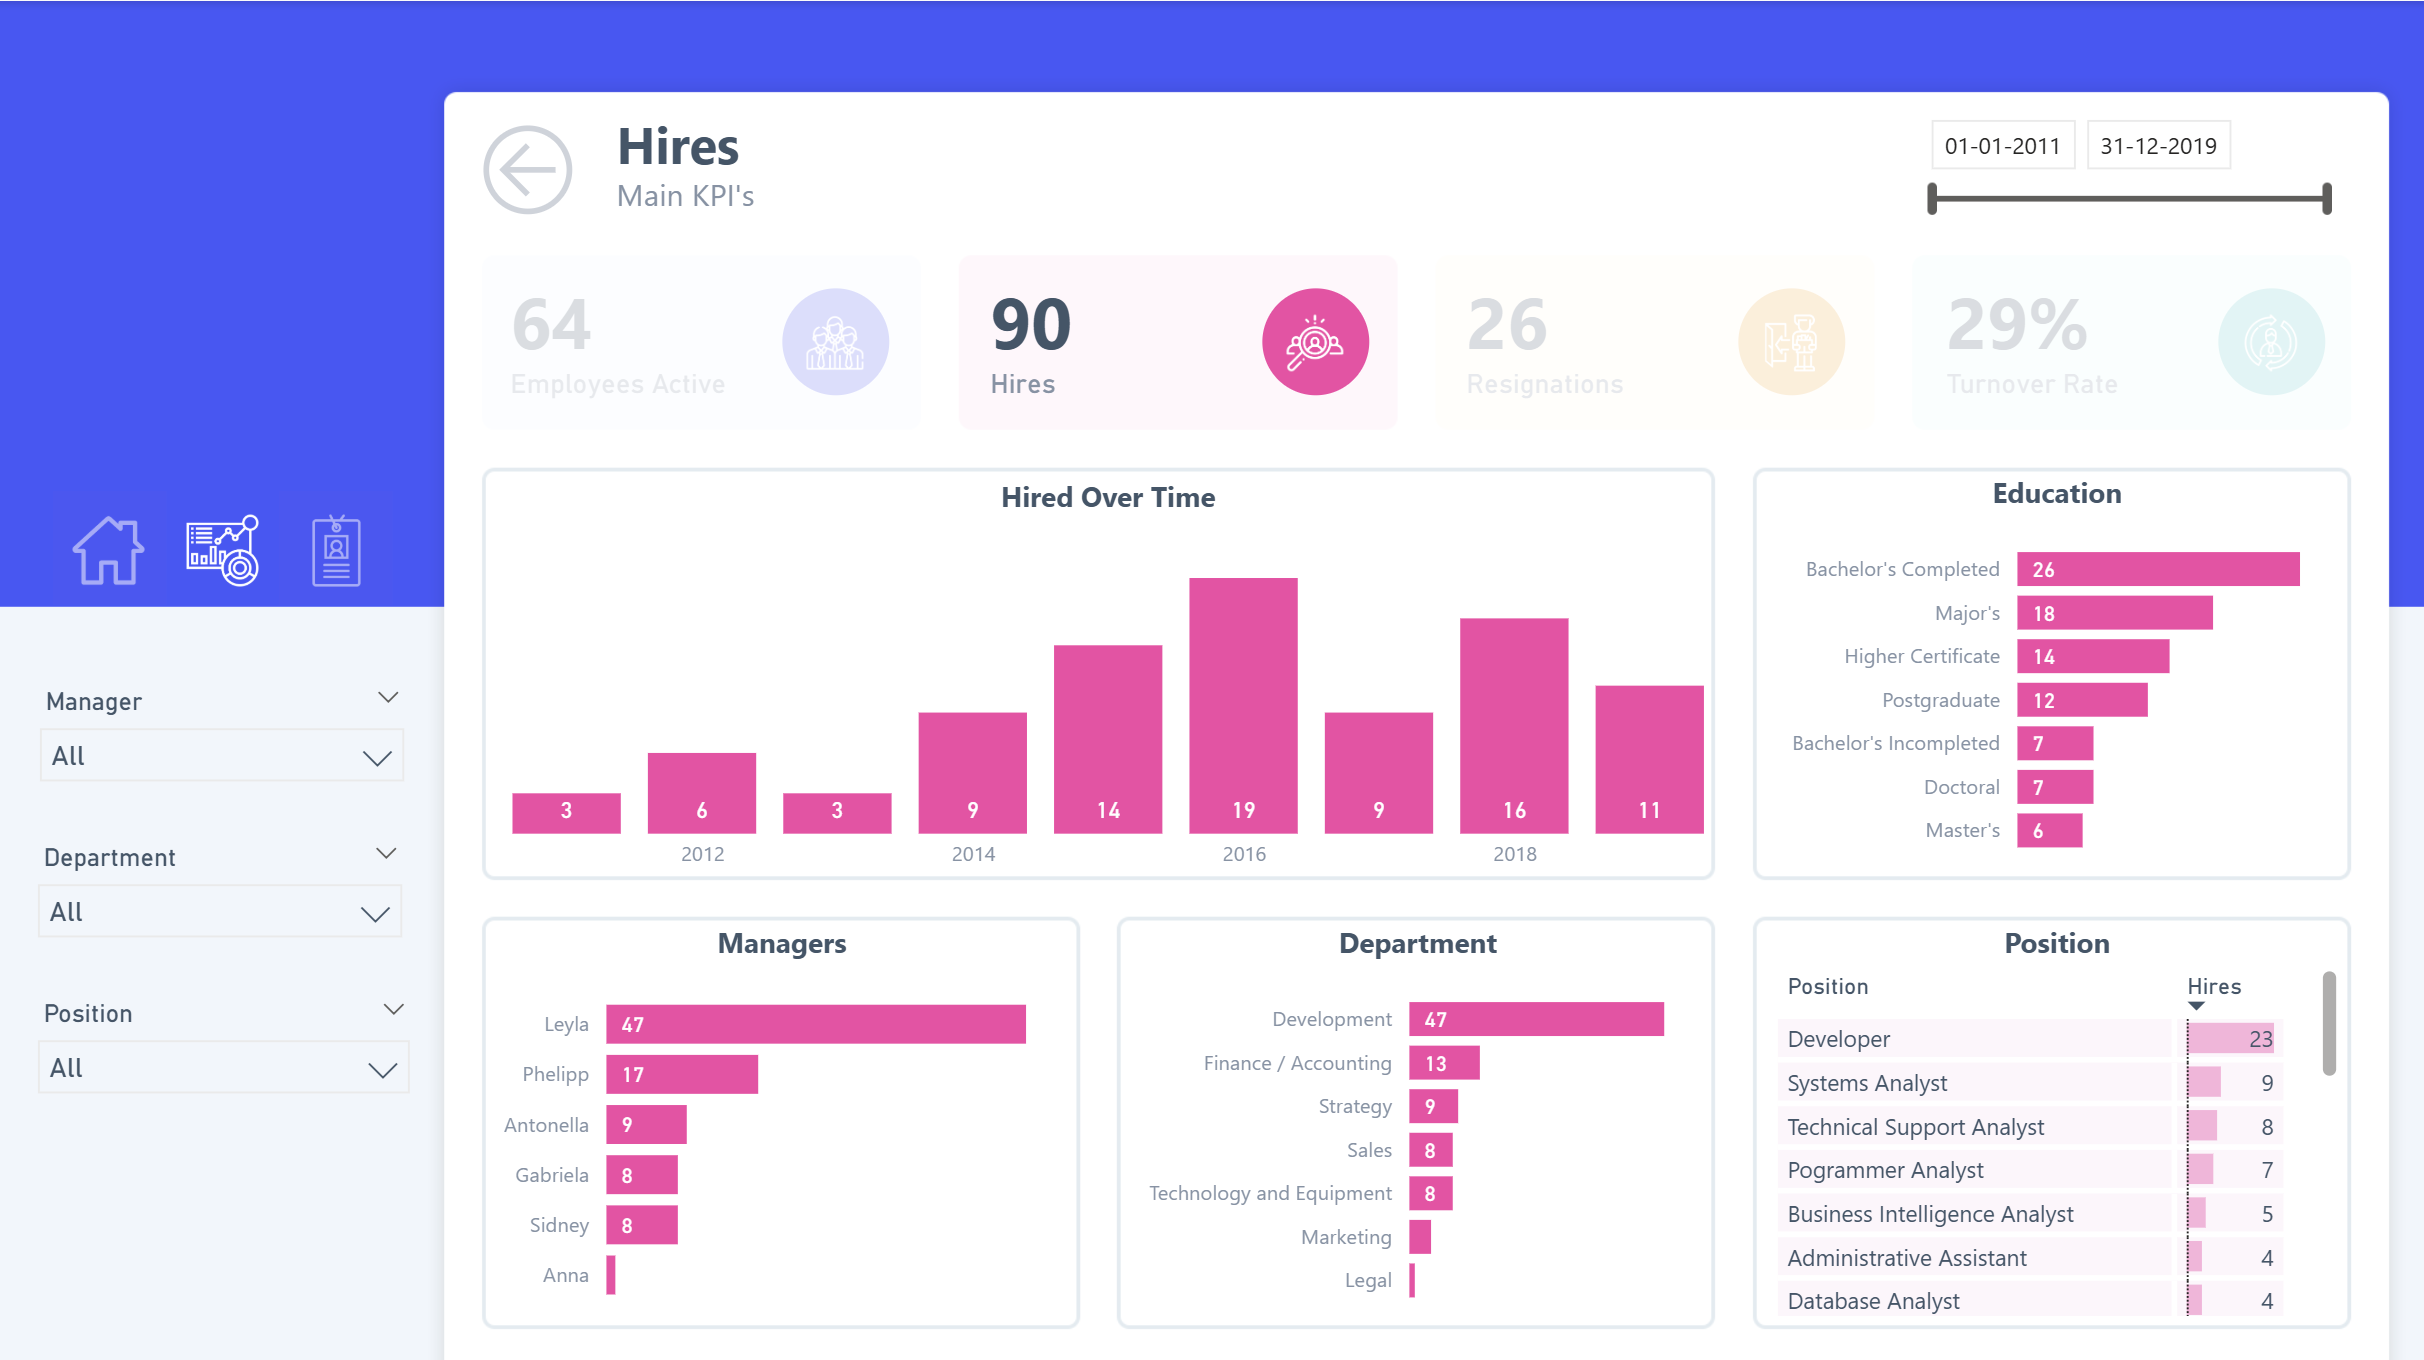

The dashboard page shown, as its layout file describes it:
{"tool":"powerbi","page":{"name":"Hires","canvas":[1280,720],"ordinal":2},"visuals":[{"type":"multiRowCard","fields":{"Values":["_Measures.Employees Active"]},"box":[265,138,164,84],"z":0,"group":"g4"},{"type":"multiRowCard","fields":{"Values":["_Measures.Hired"]},"box":[518,138,164,84],"z":0,"group":"g1"},{"type":"multiRowCard","fields":{"Values":["_Measures.Terminated"]},"box":[768,138,164,84],"z":0,"group":"g2"},{"type":"multiRowCard","fields":{"Values":["_Measures.Turnover Rate"]},"box":[1022,138,164,84],"z":0,"group":"g3"},{"type":"clusteredBarChart","title":"Education","fields":{"Category":["fEmployee.Education"],"Y":["_Measures.Hired"]},"box":[932,249,306,212],"z":0},{"type":"textbox","box":[320,51.6,529.8,55.4],"z":1000},{"type":"basicShape","box":[410,149,62,62],"z":1000,"group":"g4"},{"type":"basicShape","box":[663,149,62,62],"z":1000,"group":"g1"},{"type":"basicShape","box":[913,149,62,62],"z":1000,"group":"g2"},{"type":"basicShape","box":[1167,149,62,62],"z":1000,"group":"g3"},{"type":"textbox","box":[320,85.1,529.8,42.5],"z":2000},{"type":"image","box":[421,160,40,40],"z":2000,"group":"g4"},{"type":"image","box":[674,160,40,40],"z":2000,"group":"g1"},{"type":"image","box":[924,160,40,40],"z":2000,"group":"g2"},{"type":"image","box":[1178,160,40,40],"z":2000,"group":"g3"},{"type":"actionButton","box":[248.5,58.7,59.9,59.9],"z":3000},{"type":"clusteredBarChart","title":"Managers","fields":{"Category":["fEmployee.Manager"],"Y":["_Measures.Hired"]},"box":[256,486,313,212],"z":4000},{"type":"tableEx","title":"Position","fields":{"Values":["fEmployee.Position","_Measures.Hired"]},"box":[932,486,306,212],"z":5000},{"type":"clusteredBarChart","title":"Department","fields":{"Y":["_Measures.Hired"],"Category":["fEmployee.Department"]},"box":[591,486,313,212],"z":6000},{"type":"clusteredColumnChart","title":"Hired Over Time","fields":{"Category":["dDate.Year","dDate.Month Name"],"Y":["_Measures.Hired"]},"box":[266,251,638,216],"z":7000},{"type":"group","id":"g1","title":"Contratações","box":[518,138,207,84],"z":8000},{"type":"group","id":"g2","title":"Desligamentos","box":[768,138,207,84],"z":9000},{"type":"group","id":"g3","title":"Turnover","box":[1022,138,207,84],"z":10000},{"type":"group","id":"g4","title":"Colaboradores Ativos","box":[265,138,207,84],"z":11000},{"type":"slicer","fields":{"Values":["fEmployee.Manager"]},"box":[11.2,356.7,212,81.9],"z":12000},{"type":"slicer","fields":{"Values":["fEmployee.Position"]},"box":[11,521,216,82],"z":13000},{"type":"slicer","fields":{"Values":["fEmployee.Department"]},"box":[11,439,212,82],"z":14000},{"type":"slicer","fields":{"Values":["dDate.Date"]},"box":[1006.1,52.3,236.7,75.7],"z":15000},{"type":"basicShape","box":[241,117,253,122],"z":16000},{"type":"basicShape","box":[748,117,501,122],"z":17000},{"type":"basicShape","box":[88,258,60,60],"z":18000},{"type":"image","box":[154,266,48,48],"z":19000},{"type":"basicShape","box":[148,258,60,60],"z":20000},{"type":"image","box":[94,266,48,48],"z":21000},{"type":"image","box":[34,266,48,48],"z":22000},{"type":"basicShape","box":[28,258,60,60],"z":23000},{"type":"actionButton","box":[28,260,60,60],"z":24000},{"type":"actionButton","box":[88,260,60,60],"z":25000},{"type":"actionButton","box":[148,260,60,60],"z":26000}]}

Visuals, with their boxes on the page's 1280x720 design canvas (x1, y1, x2, y2). These are canvas units, not pixel positions in the 2424x1360 screenshot, which may show the page scaled, cropped or inside an application window:
multiRowCard - _Measures.Employees Active: <box>265,138,429,222</box>
multiRowCard - _Measures.Hired: <box>518,138,682,222</box>
multiRowCard - _Measures.Terminated: <box>768,138,932,222</box>
multiRowCard - _Measures.Turnover Rate: <box>1022,138,1186,222</box>
"Education" clusteredBarChart: <box>932,249,1238,461</box>
textbox: <box>320,52,850,107</box>
basicShape: <box>410,149,472,211</box>
basicShape: <box>663,149,725,211</box>
basicShape: <box>913,149,975,211</box>
basicShape: <box>1167,149,1229,211</box>
textbox: <box>320,85,850,128</box>
image: <box>421,160,461,200</box>
image: <box>674,160,714,200</box>
image: <box>924,160,964,200</box>
image: <box>1178,160,1218,200</box>
actionButton: <box>248,59,308,119</box>
"Managers" clusteredBarChart: <box>256,486,569,698</box>
"Position" tableEx: <box>932,486,1238,698</box>
"Department" clusteredBarChart: <box>591,486,904,698</box>
"Hired Over Time" clusteredColumnChart: <box>266,251,904,467</box>
"Contratações" group: <box>518,138,725,222</box>
"Desligamentos" group: <box>768,138,975,222</box>
"Turnover" group: <box>1022,138,1229,222</box>
"Colaboradores Ativos" group: <box>265,138,472,222</box>
slicer - fEmployee.Manager: <box>11,357,223,439</box>
slicer - fEmployee.Position: <box>11,521,227,603</box>
slicer - fEmployee.Department: <box>11,439,223,521</box>
slicer - dDate.Date: <box>1006,52,1243,128</box>
basicShape: <box>241,117,494,239</box>
basicShape: <box>748,117,1249,239</box>
basicShape: <box>88,258,148,318</box>
image: <box>154,266,202,314</box>
basicShape: <box>148,258,208,318</box>
image: <box>94,266,142,314</box>
image: <box>34,266,82,314</box>
basicShape: <box>28,258,88,318</box>
actionButton: <box>28,260,88,320</box>
actionButton: <box>88,260,148,320</box>
actionButton: <box>148,260,208,320</box>
